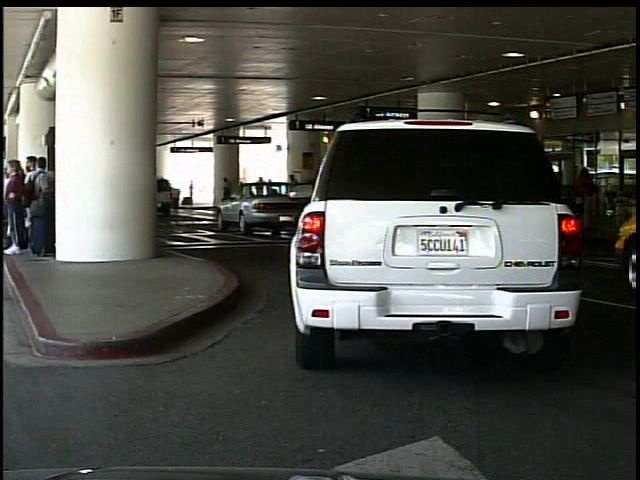person: (571, 162, 602, 247), (222, 173, 234, 207), (188, 179, 196, 206)
